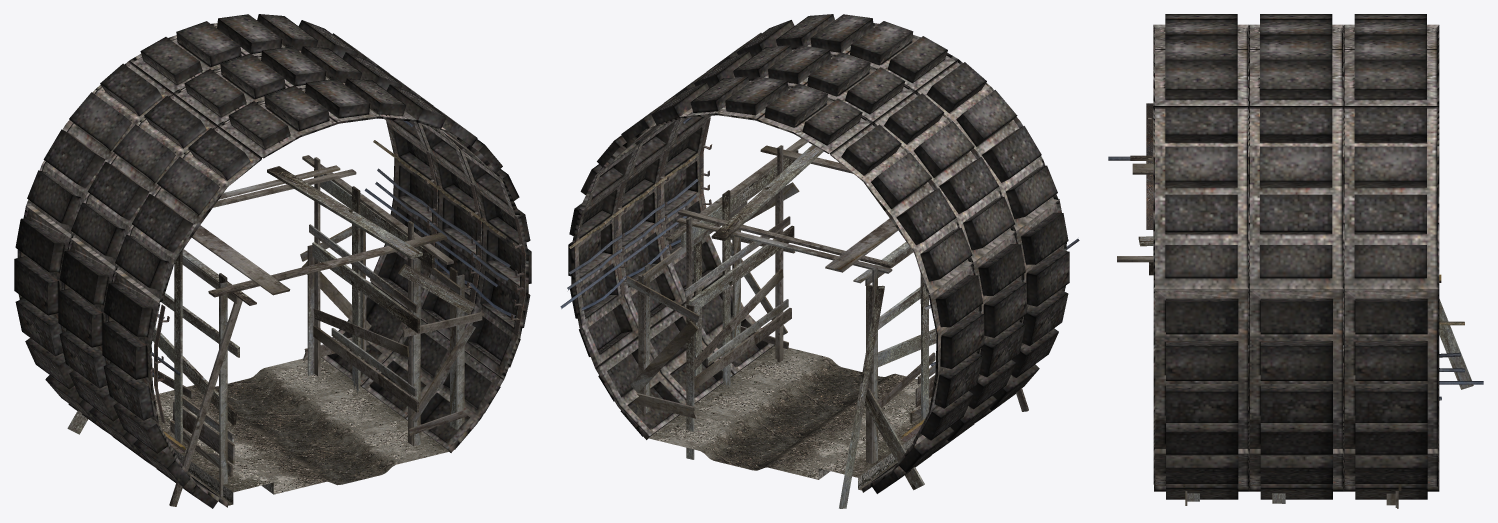
Rendered from tunnel_zelezo_derevo1.obj.
3 renders of one model, left to right at view 1: azimuth 30°, elevation 25°; view 2: azimuth 150°, elevation 25°; view 3: azimuth 270°, elevation 25°, orthographic. The views are drawn at different scales.
Visible parts, largest first — view 1: concrete34_opalubka_tunnel_ao, wood_boards, concrete34_opalubka_tunnel_ao001, concrete34_opalubka_tunnel_ao002, floor_tunnel_pod, floor_tunnel_pod001, floor_tunnel_pod002, metal_corr_dsc, metal_trub_tonnel, metal_trub_tonnel001, metal_trub_tonnel002, metal_corr_dsc001; view 2: concrete34_opalubka_tunnel_ao002, concrete34_opalubka_tunnel_ao001, wood_boards, concrete34_opalubka_tunnel_ao, floor_tunnel_pod002, floor_tunnel_pod001, floor_tunnel_pod, metal_trub_tonnel002, metal_trub_tonnel001, metal_trub_tonnel; view 3: concrete34_opalubka_tunnel_ao002, concrete34_opalubka_tunnel_ao, concrete34_opalubka_tunnel_ao001, wood_boards, metal_corr_dsc, metal_trub_tonnel002.
Boxes of the visible parts, <box> form: concrete34_opalubka_tunnel_ao: <box>102,78,531,508</box>; wood_boards: <box>67,155,482,506</box>; concrete34_opalubka_tunnel_ao001: <box>58,46,482,468</box>; concrete34_opalubka_tunnel_ao002: <box>14,14,438,435</box>; floor_tunnel_pod: <box>188,419,449,505</box>; floor_tunnel_pod001: <box>160,387,405,472</box>; floor_tunnel_pod002: <box>154,357,361,424</box>; metal_corr_dsc: <box>154,215,525,424</box>; metal_trub_tonnel: <box>152,120,515,453</box>; metal_trub_tonnel001: <box>410,172,471,285</box>; metal_trub_tonnel002: <box>364,140,422,221</box>; metal_corr_dsc001: <box>466,183,481,302</box>; concrete34_opalubka_tunnel_ao002: <box>568,76,984,493</box>; concrete34_opalubka_tunnel_ao001: <box>618,45,1026,454</box>; wood_boards: <box>626,138,1028,508</box>; concrete34_opalubka_tunnel_ao: <box>661,14,1069,423</box>; floor_tunnel_pod002: <box>648,408,897,490</box>; floor_tunnel_pod001: <box>694,376,925,445</box>; floor_tunnel_pod: <box>733,345,931,414</box>; metal_trub_tonnel002: <box>560,117,935,441</box>; metal_trub_tonnel001: <box>603,185,667,279</box>; metal_trub_tonnel: <box>645,153,1079,249</box>; concrete34_opalubka_tunnel_ao002: <box>1342,14,1439,499</box>; concrete34_opalubka_tunnel_ao: <box>1153,14,1249,499</box>; concrete34_opalubka_tunnel_ao001: <box>1248,14,1344,499</box>; wood_boards: <box>1117,155,1473,508</box>; metal_corr_dsc: <box>1146,103,1153,229</box>; metal_trub_tonnel002: <box>1439,274,1483,400</box>.
Size of the model in its own units: 9.44 by 9.01 by 7.22.
Materials: 7 (7 with a texture image).
